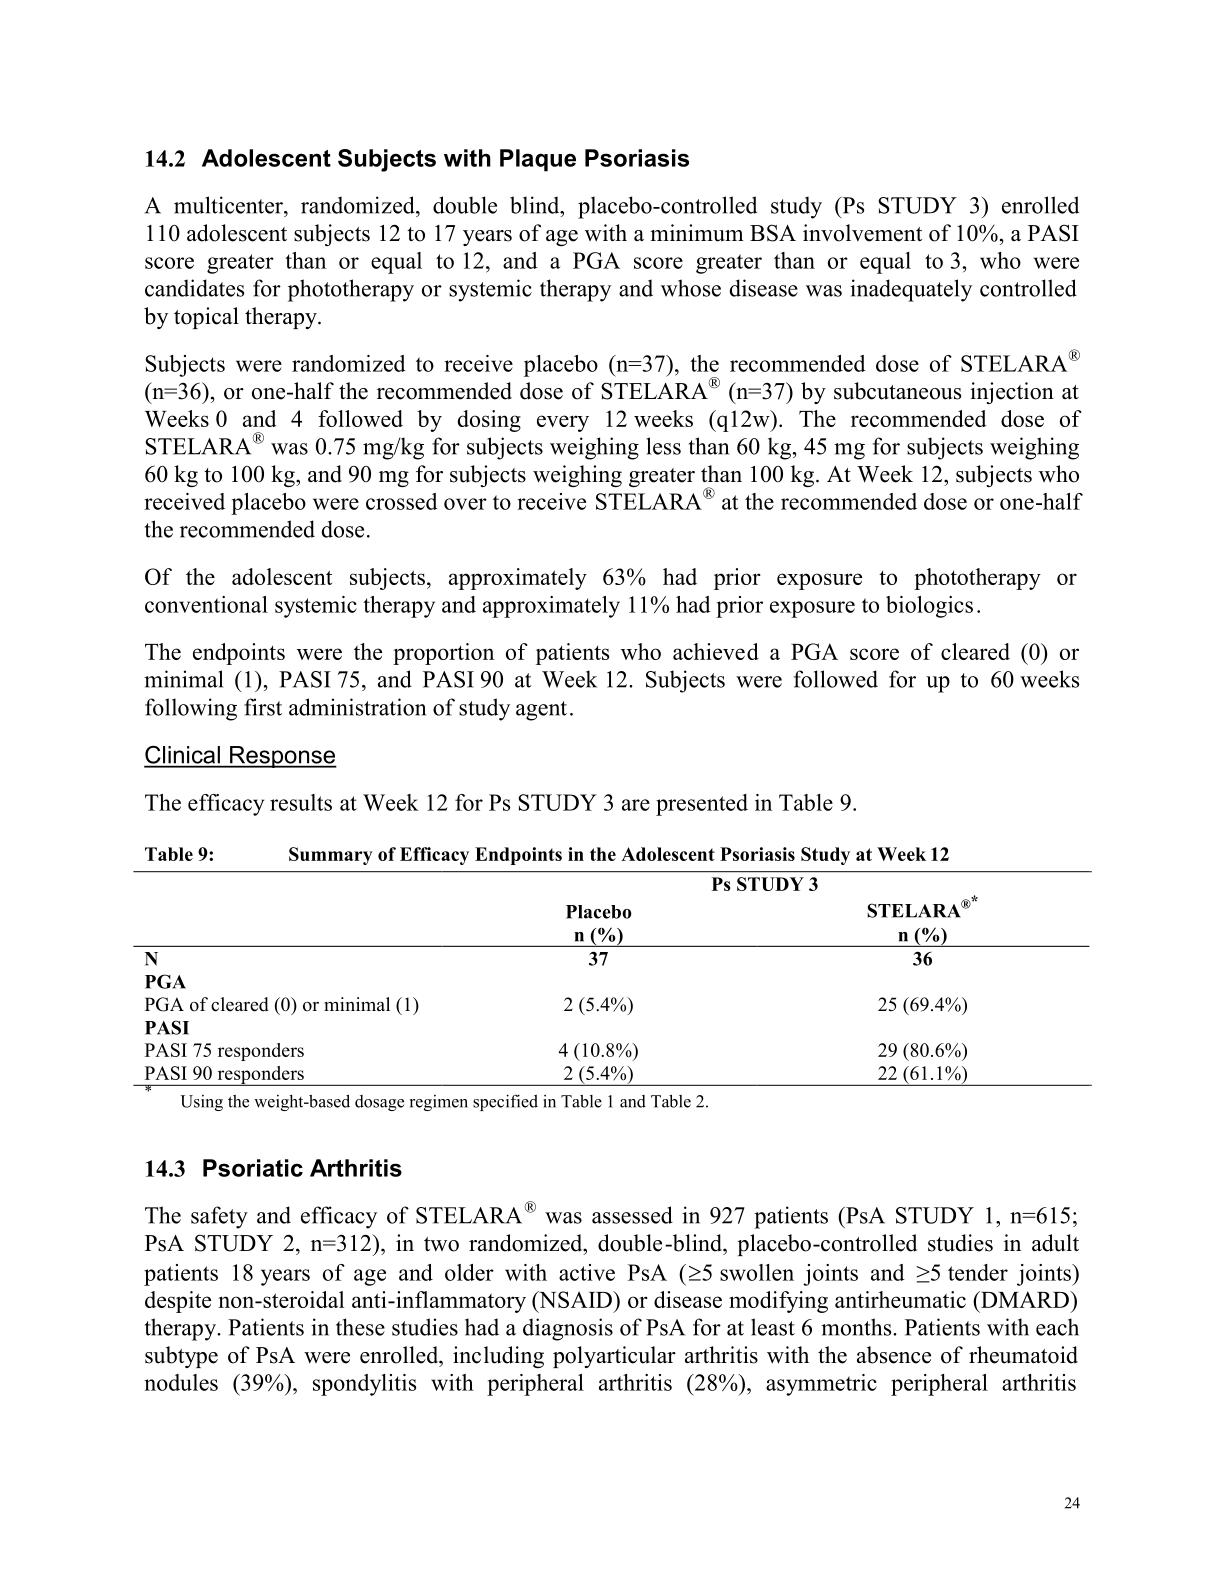partial_lined_merged_cells: (130, 868, 1094, 1088)
